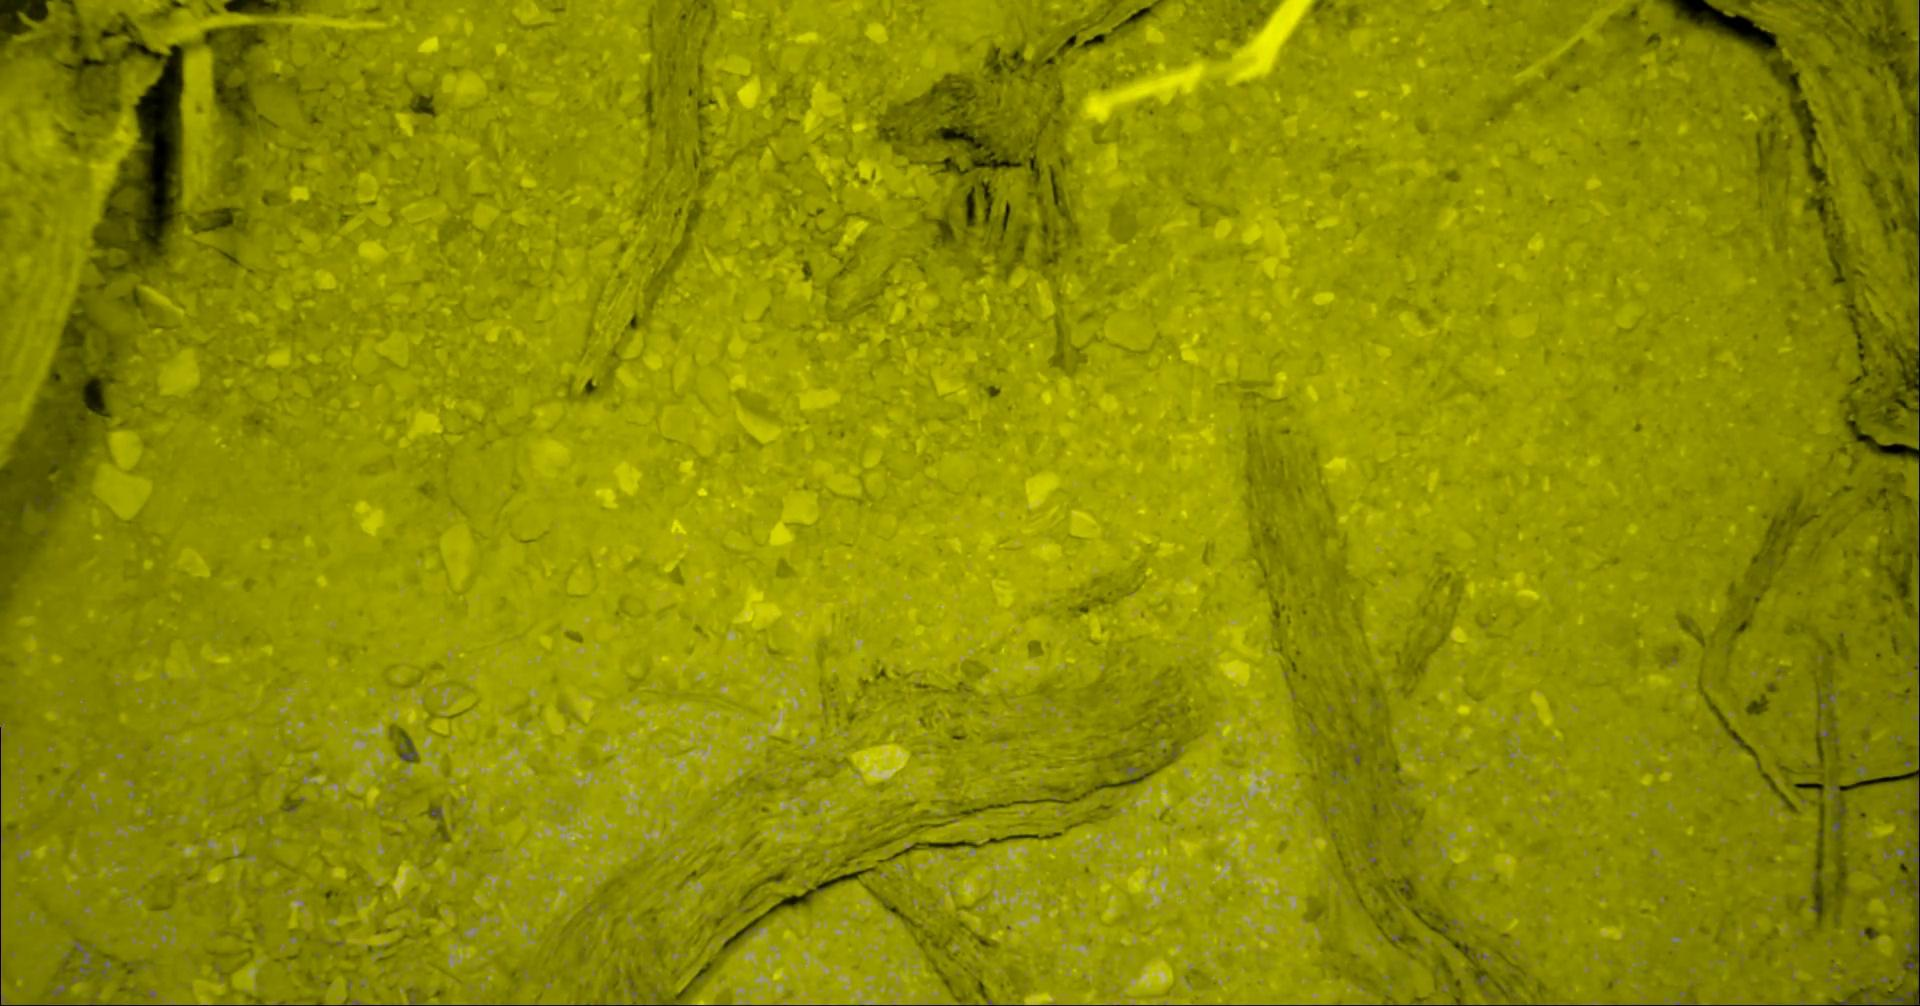ant: (1914, 780, 1920, 913)
